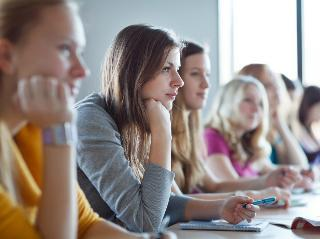person - v3 P: (76, 25, 258, 231), (0, 0, 151, 238), (172, 41, 290, 205)
